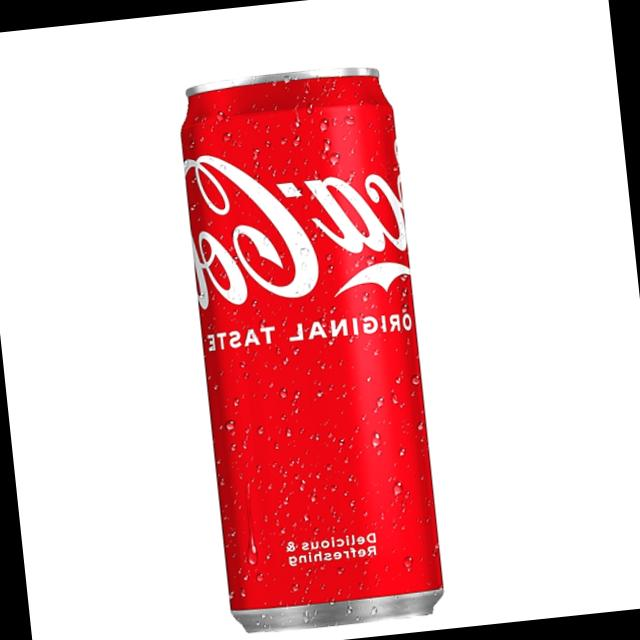cocacola: (163, 54, 458, 640)
